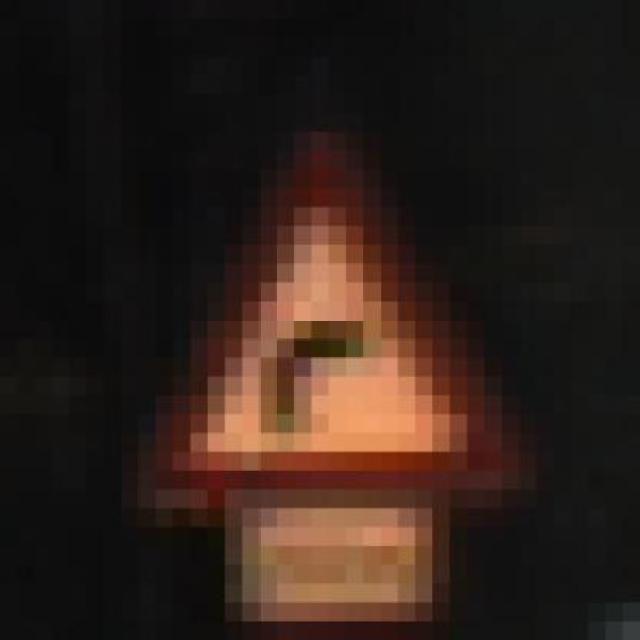Dangerous Rright Curve Ahead: (121, 113, 536, 509)
